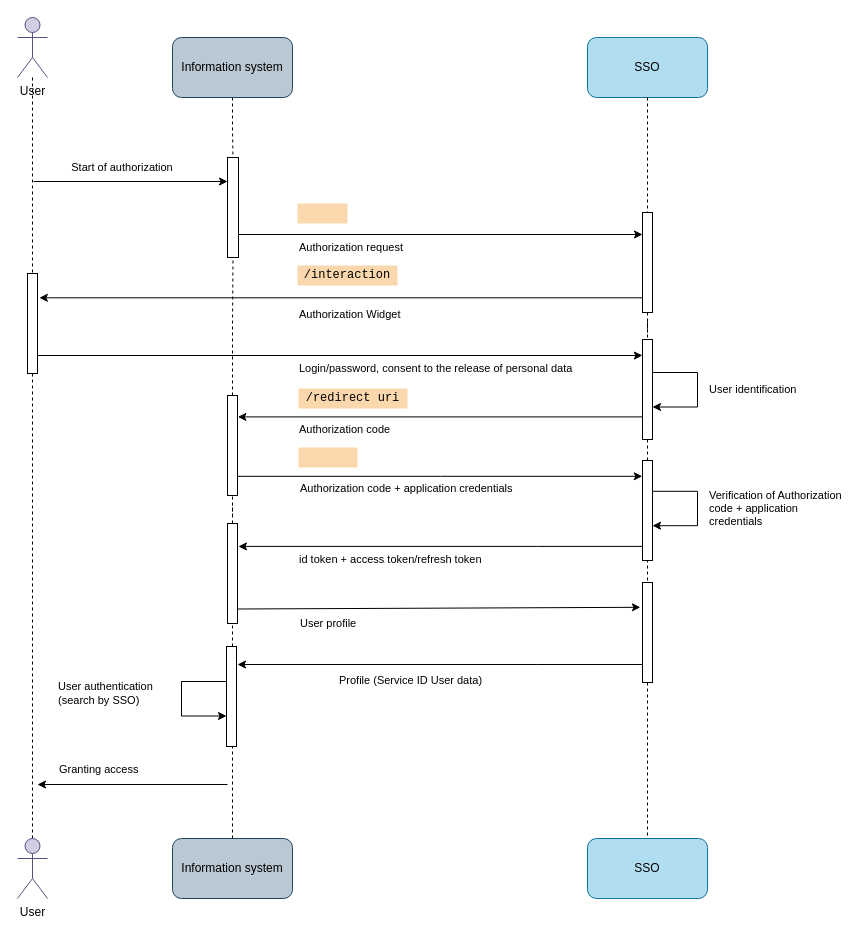
Image size: 865x937. Some labels were removed from this diagram. The centre of each missing label's shape, as x and y in pixels:
"/auth" goes at point 322,213.
"/token" goes at point 327,457.
